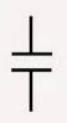Capacitor: (8, 38, 56, 84)
